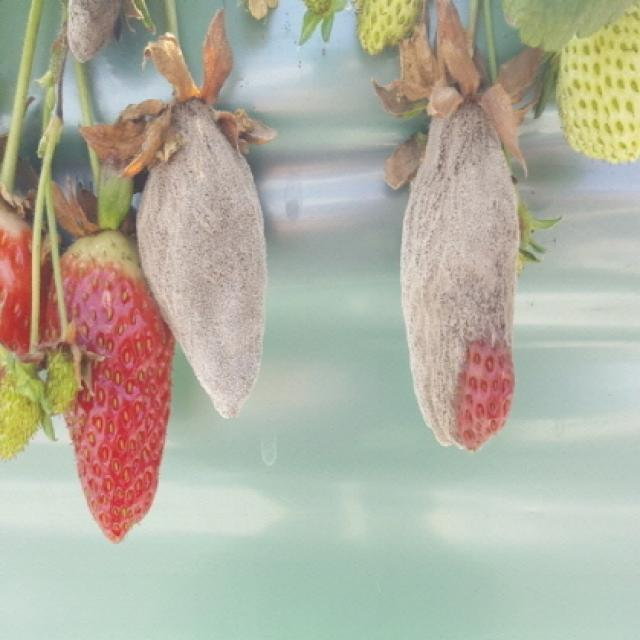Gray Mold: (398, 98, 521, 452), (136, 97, 267, 419), (65, 0, 123, 64)
